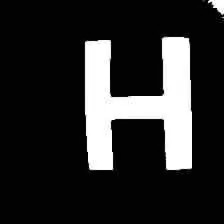LTR_H: (66, 24, 203, 184)
